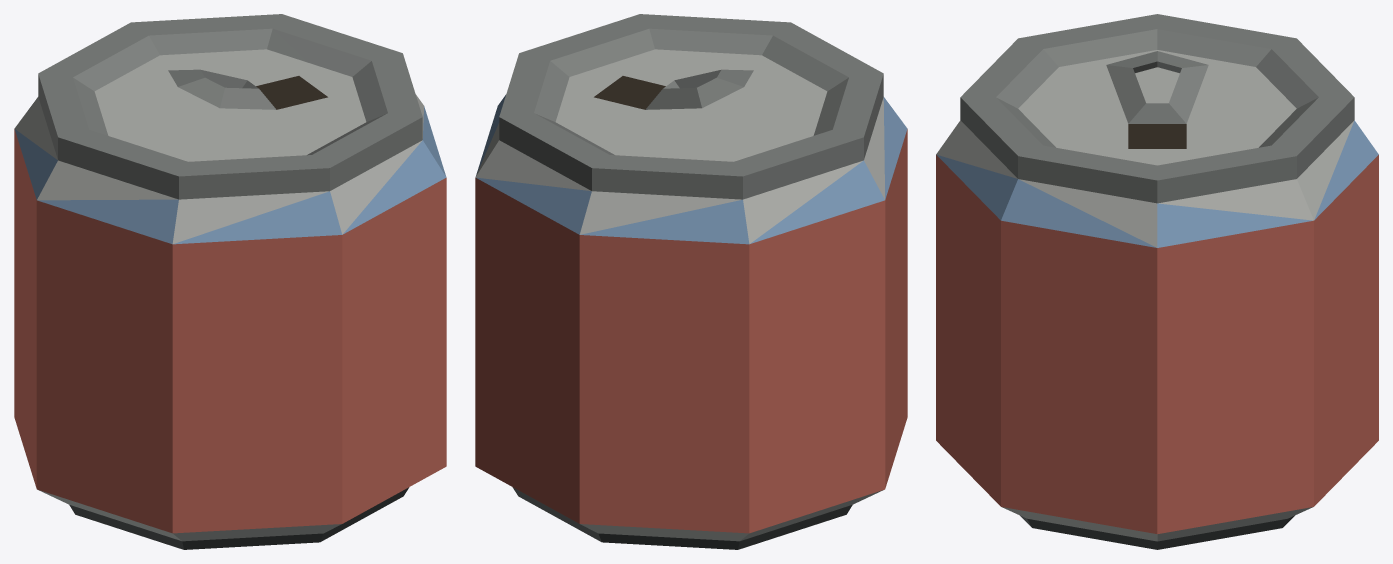
Rendered from soda-can.glb.
3 views of the same model, side by side, from view 1: azimuth 30°, elevation 25°; view 2: azimuth 150°, elevation 25°; view 3: azimuth 270°, elevation 25° (orthographic).
Bounding box in the file's own units: 1 × 1 × 1.
